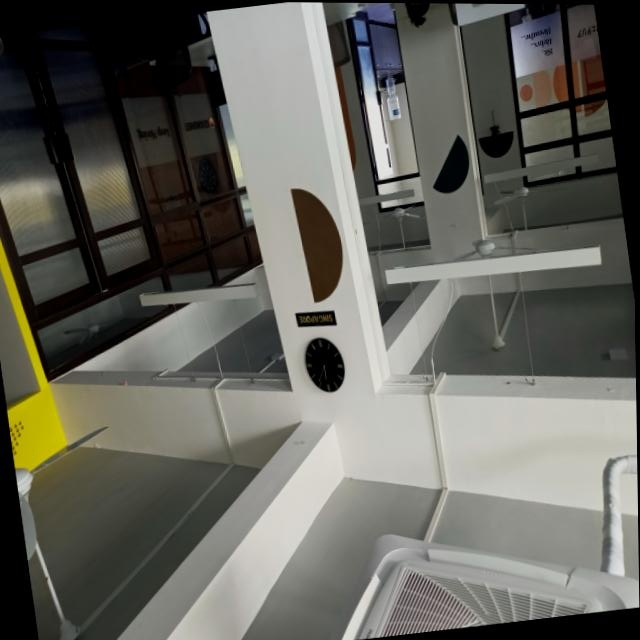fluorescent tube: (372, 229, 605, 299), (130, 273, 265, 320), (479, 148, 609, 190), (356, 177, 420, 213)
